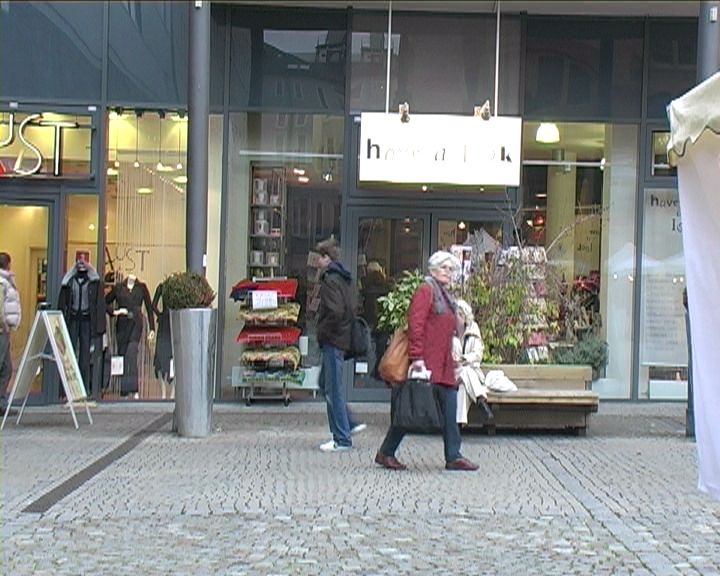deflection: (410, 250, 462, 344)
